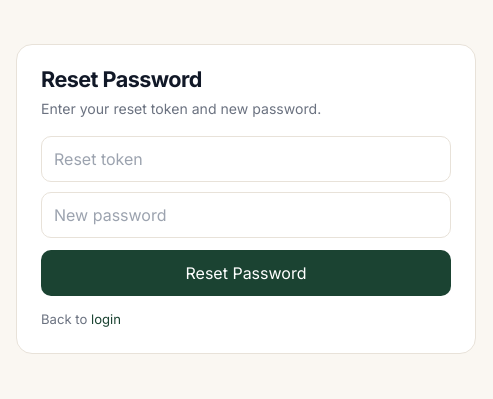
Test: ResetPassword page › submits token and password then redirects on success
This screenshot has width=493, height=399.
Type "token-1" into the field with placeholder "Reset token".
click(246, 158); type("token-1")  # box [41,136,451,182]
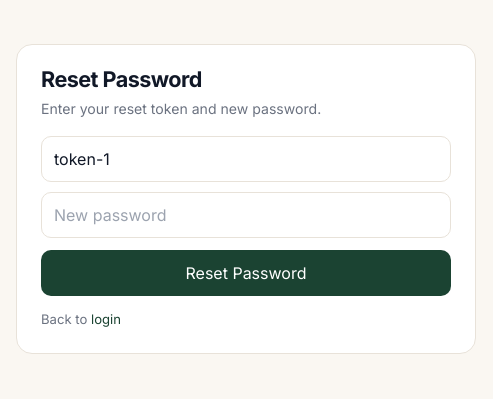
Type "newpassword" into the password field with placeholder "New password".
click(246, 214); type("newpassword")  # box [41,192,451,238]
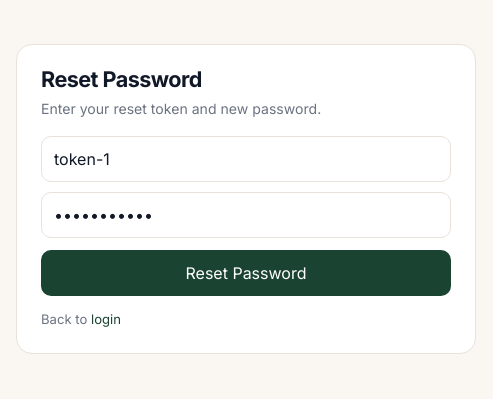
Click the button "Reset Password".
click(246, 272)  # box [41,250,451,296]
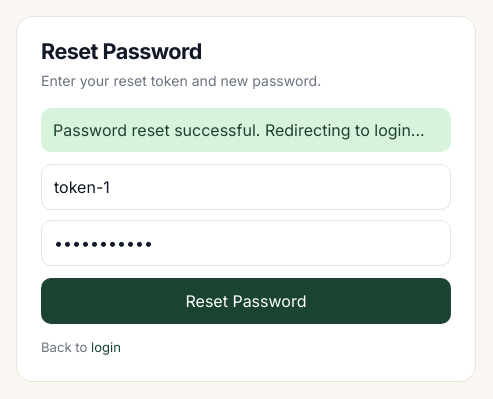
Result: the text "Password reset successful. Redirecting to login..." is shown at [41,108,451,152]
